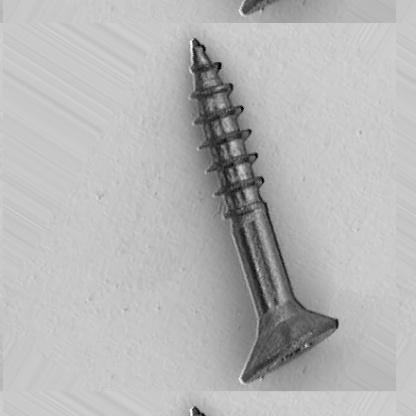metal: (192, 37, 340, 387)
